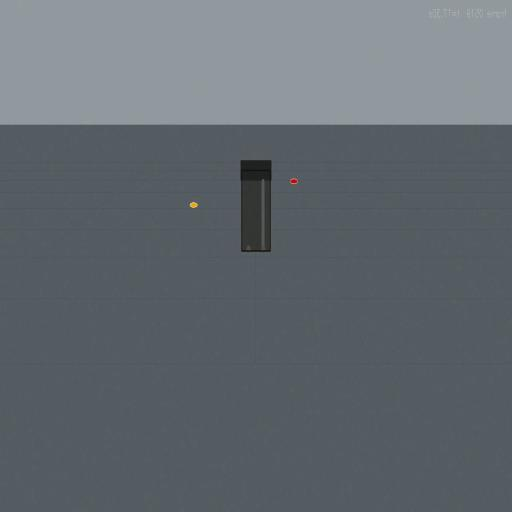bin: (240, 159, 272, 252)
